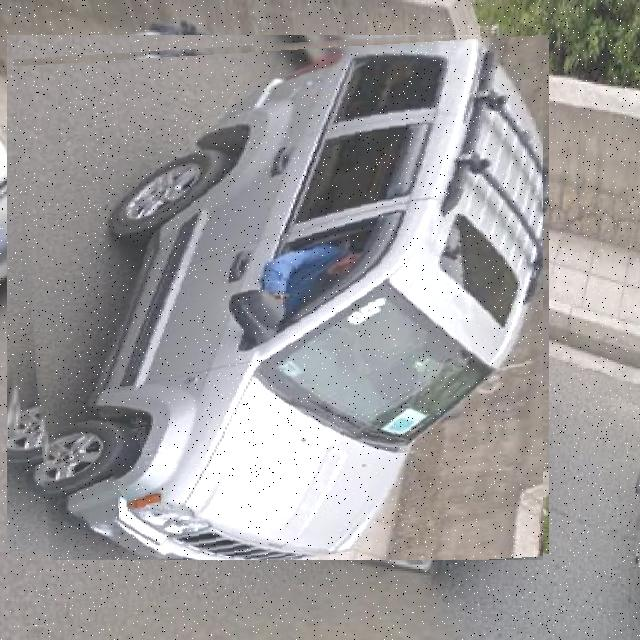car: (14, 29, 544, 561)
